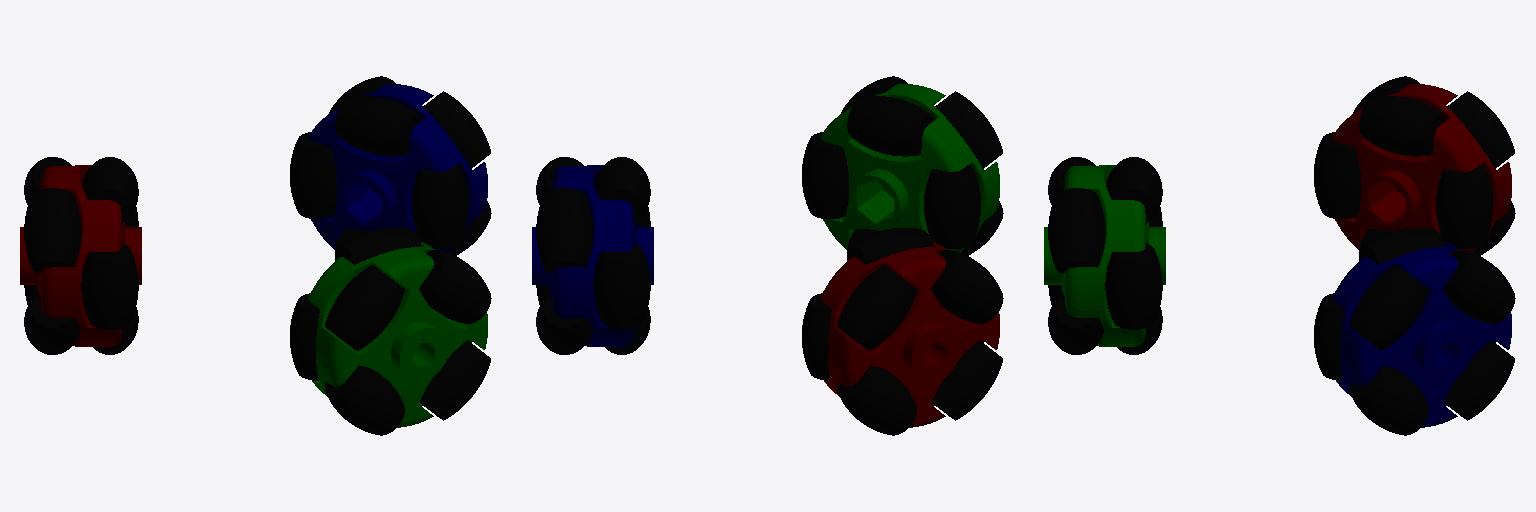
--- What the picture shows (computed from the rendered views, not written in the file) ---
Views: 3 orthographic renders of the robot side by side, from view 1: azimuth 30°, elevation 25°; view 2: azimuth 150°, elevation 25°; view 3: azimuth 270°, elevation 25°.
Model open_base with 29 links and 28 joints (27 continuous, 1 fixed), rooted at origin_link, posed every joint at zero.
Visible links, largest first — view 1: back_rim_link, right_rim_link, left_rim_link, back_roller_ne_link, left_roller_nw_link, left_roller_w_link, right_roller_e_link, right_roller_n_link, back_roller_se_link, back_roller_nw_link, right_roller_w_link, back_roller_sw_link (+9 smaller); view 2: left_rim_link, back_rim_link, right_rim_link, left_roller_ne_link, right_roller_nw_link, right_roller_w_link, back_roller_e_link, back_roller_n_link, left_roller_se_link, left_roller_nw_link, back_roller_w_link, left_roller_sw_link (+9 smaller); view 3: right_rim_link, left_rim_link, back_rim_link, right_roller_ne_link, back_roller_nw_link, back_roller_w_link, left_roller_e_link, left_roller_n_link, right_roller_se_link, right_roller_nw_link, left_roller_w_link, right_roller_sw_link (+9 smaller).
Link boxes in pixels (x1,y1,x2,y2): back_rim_link: (308,242,487,427); right_rim_link: (308,84,487,252); left_rim_link: (20,165,141,346); back_roller_ne_link: (325,265,404,350); left_roller_nw_link: (24,188,80,273); left_roller_w_link: (81,243,138,329); right_roller_e_link: (412,165,468,248); right_roller_n_link: (335,96,422,156); back_roller_se_link: (325,365,404,435); back_roller_nw_link: (419,250,491,323); right_roller_w_link: (290,132,336,218); back_roller_sw_link: (419,340,490,420); left_rim_link: (820,242,999,427); back_rim_link: (820,84,999,252); right_rim_link: (532,165,653,346); left_roller_ne_link: (837,265,916,350); right_roller_nw_link: (536,188,592,273); right_roller_w_link: (593,243,650,329); back_roller_e_link: (924,165,980,248); back_roller_n_link: (847,96,934,156); left_roller_se_link: (837,365,916,435); left_roller_nw_link: (931,250,1003,323); back_roller_w_link: (802,132,848,218); left_roller_sw_link: (931,340,1002,420); right_rim_link: (1332,242,1511,427); left_rim_link: (1332,84,1511,252); back_rim_link: (1044,165,1165,346); right_roller_ne_link: (1349,265,1428,350); back_roller_nw_link: (1048,188,1104,273); back_roller_w_link: (1105,243,1162,329); left_roller_e_link: (1436,165,1492,248); left_roller_n_link: (1359,96,1446,156); right_roller_se_link: (1349,365,1428,435); right_roller_nw_link: (1443,250,1515,323); left_roller_w_link: (1314,132,1360,218); right_roller_sw_link: (1443,340,1514,420).
Bounding box of the posed robot: 0.1011 × 0.0905 × 0.0381 m (x, y, z).
27 mesh visuals loaded from 3 distinct referenced files (2 binary STL); not drawn: 1 (reference not matched to a file when rendering).

The robot description file, URDF, robot "open_base":
<robot name="open_base">

	<link name="origin_link"/>
	<link name="base_link">

		<inertial>

			<mass value="0.07862944645"/>
			<inertia
				ixx="0.00002035985530754"
				ixy="0"
				ixz="0"
				iyy="0.00002035985530754"
				iyz="0"
				izz="0.00003945961663220"
			/>

		</inertial>
		<visual>

			<geometry>

				<mesh filename="package://open_base/mesh/base.stl"/>

			</geometry>
			<material name="base_material">

				<color rgba="1 1 1 1"/>

			</material>

		</visual>
		<collision>

			<geometry>

				<mesh filename="package://open_base/mesh/base.stl"/>

			</geometry>

		</collision>

	</link>
	<joint
		name="origin_joint"
		type="fixed"
	>

		<parent link="origin_link"/>
		<child link="base_link"/>
		<axis xyz="0 0 1"/>
		<origin xyz="0 0 0.01905"/>

	</joint>
	<link name="left_rim_link">

		<inertial>

			<origin xyz="0 0 -0.000343"/>
			<mass value="0.00835758"/>
			<inertia
				ixx="6.63684e-07"
				ixy="0"
				ixz="0"
				iyy="6.63684e-07"
				iyz="0"
				izz="9.40333e-07"
			/>

		</inertial>
		<visual>

			<geometry>

				<mesh filename="package://open_base/mesh/rim.stl"/>

			</geometry>
			<material name="left_rim_material">

				<color rgba="0.3 0 0 1"/>

			</material>

		</visual>
		<collision>

			<geometry>

				<mesh filename="package://open_base/mesh/rim.stl"/>

			</geometry>

		</collision>

	</link>
	<joint
		name="left_rim_joint"
		type="continuous"
	>

		<parent link="base_link"/>
		<child link="left_rim_link"/>
		<axis xyz="0 0 1"/>
		<origin
			xyz="-0.03464101615 0.02 0"
			rpy="1.570796326794896 0 1.047197551196597"
		/>

	</joint>
	<link name="left_roller_e_link">

		<inertial>

			<mass value="0.00113845"/>
			<inertia
				ixx="2.53776e-08"
				ixy="0"
				ixz="0"
				iyy="2.53776e-08"
				iyz="0"
				izz="1.47666e-08"
			/>

		</inertial>
		<visual>

			<geometry>

				<mesh filename="package://open_base/mesh/roller.stl"/>

			</geometry>
			<material name="left_roller_e_material">

				<color rgba="0.03 0.03 0.03 1"/>

			</material>

		</visual>
		<collision>

			<geometry>

				<mesh filename="package://open_base/mesh/roller.stl"/>

			</geometry>

		</collision>

	</link>
	<joint
		name="left_roller_e_joint"
		type="continuous"
	>

		<parent link="left_rim_link"/>
		<child link="left_roller_e_link"/>
		<axis xyz="0 0 1"/>
		<origin
			xyz="0.01355 0 0.0055"
			rpy="-1.570796326794896 0 0"
		/>

	</joint>
	<link name="left_roller_ne_link">

		<inertial>

			<mass value="0.00113845"/>
			<inertia
				ixx="2.53776e-08"
				ixy="0"
				ixz="0"
				iyy="2.53776e-08"
				iyz="0"
				izz="1.47666e-08"
			/>

		</inertial>
		<visual>

			<geometry>

				<mesh filename="package://open_base/mesh/roller.stl"/>

			</geometry>
			<material name="left_roller_e_material">

				<color rgba="0.03 0.03 0.03 1"/>

			</material>

		</visual>
		<collision>

			<geometry>

				<mesh filename="package://open_base/mesh/roller.stl"/>

			</geometry>

		</collision>

	</link>
	<joint
		name="left_roller_ne_joint"
		type="continuous"
	>

		<parent link="left_rim_link"/>
		<child link="left_roller_ne_link"/>
		<axis xyz="0 0 1"/>
		<origin
			xyz="0.00958129689 0.00958129689 -0.0055"
			rpy="-1.570796326794896 0 0.7853981633974483"
		/>

	</joint>
	<link name="left_roller_n_link">

		<inertial>

			<mass value="0.00113845"/>
			<inertia
				ixx="2.53776e-08"
				ixy="0"
				ixz="0"
				iyy="2.53776e-08"
				iyz="0"
				izz="1.47666e-08"
			/>

		</inertial>
		<visual>

			<geometry>

				<mesh filename="package://open_base/mesh/roller.stl"/>

			</geometry>
			<material name="left_roller_n_material">

				<color rgba="0.03 0.03 0.03 1"/>

			</material>

		</visual>
		<collision>

			<geometry>

				<mesh filename="package://open_base/mesh/roller.stl"/>

			</geometry>

		</collision>

	</link>
	<joint
		name="left_roller_n_joint"
		type="continuous"
	>

		<parent link="left_rim_link"/>
		<child link="left_roller_n_link"/>
		<axis xyz="0 0 1"/>
		<origin
			xyz="0 0.01355 0.0055"
			rpy="-1.570796326794896 0 1.570796326794896"
		/>

	</joint>
	<link name="left_roller_nw_link">

		<inertial>

			<mass value="0.00113845"/>
			<inertia
				ixx="2.53776e-08"
				ixy="0"
				ixz="0"
				iyy="2.53776e-08"
				iyz="0"
				izz="1.47666e-08"
			/>

		</inertial>
		<visual>

			<geometry>

				<mesh filename="package://open_base/mesh/roller.stl"/>

			</geometry>
			<material name="left_roller_nw_material">

				<color rgba="0.03 0.03 0.03 1"/>

			</material>

		</visual>
		<collision>

			<geometry>

				<mesh filename="package://open_base/mesh/roller.stl"/>

			</geometry>

		</collision>

	</link>
	<joint
		name="left_roller_nw_joint"
		type="continuous"
	>

		<parent link="left_rim_link"/>
		<child link="left_roller_nw_link"/>
		<axis xyz="0 0 1"/>
		<origin
			xyz="-0.00958129689 0.00958129689 -0.0055"
			rpy="-1.570796326794896 0 2.356194490192345"
		/>

	</joint>
	<link name="left_roller_w_link">

		<inertial>

			<mass value="0.00113845"/>
			<inertia
				ixx="2.53776e-08"
				ixy="0"
				ixz="0"
				iyy="2.53776e-08"
				iyz="0"
				izz="1.47666e-08"
			/>

		</inertial>
		<visual>

			<geometry>

				<mesh filename="package://open_base/mesh/roller.stl"/>

			</geometry>
			<material name="left_roller_w_material">

				<color rgba="0.03 0.03 0.03 1"/>

			</material>

		</visual>
		<collision>

			<geometry>

				<mesh filename="package://open_base/mesh/roller.stl"/>

			</geometry>

		</collision>

	</link>
	<joint
		name="left_roller_w_joint"
		type="continuous"
	>

		<parent link="left_rim_link"/>
		<child link="left_roller_w_link"/>
		<axis xyz="0 0 1"/>
		<origin
			xyz="-0.01355 0 0.0055"
			rpy="-1.570796326794896 0 3.141592653589793"
		/>

	</joint>
	<link name="left_roller_sw_link">

		<inertial>

			<mass value="0.00113845"/>
			<inertia
				ixx="2.53776e-08"
				ixy="0"
				ixz="0"
				iyy="2.53776e-08"
				iyz="0"
				izz="1.47666e-08"
			/>

		</inertial>
		<visual>

			<geometry>

				<mesh filename="package://open_base/mesh/roller.stl"/>

			</geometry>
			<material name="left_roller_sw_material">

				<color rgba="0.03 0.03 0.03 1"/>

			</material>

		</visual>
		<collision>

			<geometry>

				<mesh filename="package://open_base/mesh/roller.stl"/>

			</geometry>

		</collision>

	</link>
	<joint
		name="left_roller_sw_joint"
		type="continuous"
	>

		<parent link="left_rim_link"/>
		<child link="left_roller_sw_link"/>
		<axis xyz="0 0 1"/>
		<origin
			xyz="-0.00958129689 -0.00958129689 -0.0055"
			rpy="-1.570796326794896 0 -2.356194490192345"
		/>

	</joint>
	<link name="left_roller_s_link">

		<inertial>

			<mass value="0.00113845"/>
			<inertia
				ixx="2.53776e-08"
				ixy="0"
				ixz="0"
				iyy="2.53776e-08"
				iyz="0"
				izz="1.47666e-08"
			/>

		</inertial>
		<visual>

			<geometry>

				<mesh filename="package://open_base/mesh/roller.stl"/>

			</geometry>
			<material name="left_roller_s_material">

				<color rgba="0.03 0.03 0.03 1"/>

			</material>

		</visual>
		<collision>

			<geometry>

				<mesh filename="package://open_base/mesh/roller.stl"/>

			</geometry>

		</collision>

	</link>
	<joint
		name="left_roller_s_joint"
		type="continuous"
	>

		<parent link="left_rim_link"/>
		<child link="left_roller_s_link"/>
		<axis xyz="0 0 1"/>
		<origin
			xyz="0 -0.01355 0.0055"
			rpy="-1.570796326794896 0 -1.570796326794896"
		/>

	</joint>
	<link name="left_roller_se_link">

		<inertial>

			<mass value="0.00113845"/>
			<inertia
				ixx="2.53776e-08"
				ixy="0"
				ixz="0"
				iyy="2.53776e-08"
				iyz="0"
				izz="1.47666e-08"
			/>

		</inertial>
		<visual>

			<geometry>

				<mesh filename="package://open_base/mesh/roller.stl"/>

			</geometry>
			<material name="left_roller_se_material">

				<color rgba="0.03 0.03 0.03 1"/>

			</material>

		</visual>
		<collision>

			<geometry>

				<mesh filename="package://open_base/mesh/roller.stl"/>

			</geometry>

		</collision>

	</link>
	<joint
		name="left_roller_se_joint"
		type="continuous"
	>

		<parent link="left_rim_link"/>
		<child link="left_roller_se_link"/>
		<axis xyz="0 0 1"/>
		<origin
			xyz="0.00958129689 -0.00958129689 -0.0055"
			rpy="-1.570796326794896 0 -0.7853981633974483"
		/>

	</joint>
	<link name="back_rim_link">

		<inertial>

			<origin xyz="0 0 -0.000343"/>
			<mass value="0.00835758"/>
			<inertia
				ixx="6.63684e-07"
				ixy="0"
				ixz="0"
				iyy="6.63684e-07"
				iyz="0"
				izz="9.40333e-07"
			/>

		</inertial>
		<visual>

			<geometry>

				<mesh filename="package://open_base/mesh/rim.stl"/>

			</geometry>
			<material name="back_rim_material">

				<color rgba="0 0.3 0 1"/>

			</material>

		</visual>
		<collision>

			<geometry>

				<mesh filename="package://open_base/mesh/rim.stl"/>

			</geometry>

		</collision>

	</link>
	<joint
		name="back_rim_joint"
		type="continuous"
	>

		<parent link="base_link"/>
		<child link="back_rim_link"/>
		<axis xyz="0 0 1"/>
		<origin
			xyz="0 -0.04 0"
			rpy="1.570796326794896 0 3.141592653589793"
		/>

	</joint>
	<link name="back_roller_e_link">

		<inertial>

			<mass value="0.00113845"/>
			<inertia
				ixx="2.53776e-08"
				ixy="0"
				ixz="0"
				iyy="2.53776e-08"
				iyz="0"
				izz="1.47666e-08"
			/>

		</inertial>
		<visual>

			<geometry>

				<mesh filename="package://open_base/mesh/roller.stl"/>

			</geometry>
			<material name="back_roller_e_material">

				<color rgba="0.03 0.03 0.03 1"/>

			</material>

		</visual>
		<collision>

			<geometry>

				<mesh filename="package://open_base/mesh/roller.stl"/>

			</geometry>

		</collision>

	</link>
	<joint
		name="back_roller_e_joint"
		type="continuous"
	>

		<parent link="back_rim_link"/>
		<child link="back_roller_e_link"/>
		<axis xyz="0 0 1"/>
		<origin
			xyz="0.01355 0 0.0055"
			rpy="-1.570796326794896 0 0"
		/>

	</joint>
	<link name="back_roller_ne_link">

		<inertial>

			<mass value="0.00113845"/>
			<inertia
				ixx="2.53776e-08"
				ixy="0"
				ixz="0"
				iyy="2.53776e-08"
				iyz="0"
				izz="1.47666e-08"
			/>

		</inertial>
		<visual>

			<geometry>

				<mesh filename="package://open_base/mesh/roller.stl"/>

			</geometry>
			<material name="back_roller_e_material">

				<color rgba="0.03 0.03 0.03 1"/>

			</material>

		</visual>
		<collision>

			<geometry>

				<mesh filename="package://open_base/mesh/roller.stl"/>

			</geometry>

		</collision>

	</link>
	<joint
		name="back_roller_ne_joint"
		type="continuous"
	>

		<parent link="back_rim_link"/>
		<child link="back_roller_ne_link"/>
		<axis xyz="0 0 1"/>
		<origin
			xyz="0.00958129689 0.00958129689 -0.0055"
			rpy="-1.570796326794896 0 0.7853981633974483"
		/>

	</joint>
	<link name="back_roller_n_link">

		<inertial>

			<mass value="0.00113845"/>
			<inertia
				ixx="2.53776e-08"
				ixy="0"
				ixz="0"
				iyy="2.53776e-08"
				iyz="0"
				izz="1.47666e-08"
			/>

		</inertial>
		<visual>

			<geometry>

				<mesh filename="package://open_base/mesh/roller.stl"/>

			</geometry>
			<material name="back_roller_n_material">

				<color rgba="0.03 0.03 0.03 1"/>

			</material>

		</visual>
		<collision>

			<geometry>

				<mesh filename="package://open_base/mesh/roller.stl"/>

			</geometry>

		</collision>

	</link>
	<joint
		name="back_roller_n_joint"
		type="continuous"
	>

		<parent link="back_rim_link"/>
		<child link="back_roller_n_link"/>
		<axis xyz="0 0 1"/>
		<origin
			xyz="0 0.01355 0.0055"
			rpy="-1.570796326794896 0 1.570796326794896"
		/>

	</joint>
	<link name="back_roller_nw_link">

		<inertial>

			<mass value="0.00113845"/>
			<inertia
				ixx="2.53776e-08"
				ixy="0"
				ixz="0"
				iyy="2.53776e-08"
				iyz="0"
				izz="1.47666e-08"
			/>

		</inertial>
		<visual>

			<geometry>

				<mesh filename="package://open_base/mesh/roller.stl"/>

			</geometry>
			<material name="back_roller_nw_material">

				<color rgba="0.03 0.03 0.03 1"/>

			</material>

		</visual>
		<collision>

			<geometry>

				<mesh filename="package://open_base/mesh/roller.stl"/>

			</geometry>

		</collision>

	</link>
	<joint
		name="back_roller_nw_joint"
		type="continuous"
	>

		<parent link="back_rim_link"/>
		<child link="back_roller_nw_link"/>
		<axis xyz="0 0 1"/>
		<origin
			xyz="-0.00958129689 0.00958129689 -0.0055"
			rpy="-1.570796326794896 0 2.356194490192345"
		/>

	</joint>
	<link name="back_roller_w_link">

		<inertial>

			<mass value="0.00113845"/>
			<inertia
				ixx="2.53776e-08"
				ixy="0"
				ixz="0"
				iyy="2.53776e-08"
				iyz="0"
				izz="1.47666e-08"
			/>

		</inertial>
		<visual>

			<geometry>

				<mesh filename="package://open_base/mesh/roller.stl"/>

			</geometry>
			<material name="back_roller_w_material">

				<color rgba="0.03 0.03 0.03 1"/>

			</material>

		</visual>
		<collision>

			<geometry>

				<mesh filename="package://open_base/mesh/roller.stl"/>

			</geometry>

		</collision>

	</link>
	<joint
		name="back_roller_w_joint"
		type="continuous"
	>

		<parent link="back_rim_link"/>
		<child link="back_roller_w_link"/>
		<axis xyz="0 0 1"/>
		<origin
			xyz="-0.01355 0 0.0055"
			rpy="-1.570796326794896 0 3.141592653589793"
		/>

	</joint>
	<link name="back_roller_sw_link">

		<inertial>

			<mass value="0.00113845"/>
			<inertia
				ixx="2.53776e-08"
				ixy="0"
				ixz="0"
				iyy="2.53776e-08"
				iyz="0"
				izz="1.47666e-08"
			/>

		</inertial>
		<visual>

			<geometry>

				<mesh filename="package://open_base/mesh/roller.stl"/>

			</geometry>
			<material name="back_roller_sw_material">

				<color rgba="0.03 0.03 0.03 1"/>

			</material>

		</visual>
		<collision>

			<geometry>

				<mesh filename="package://open_base/mesh/roller.stl"/>

			</geometry>

		</collision>

	</link>
	<joint
		name="back_roller_sw_joint"
		type="continuous"
	>

		<parent link="back_rim_link"/>
		<child link="back_roller_sw_link"/>
		<axis xyz="0 0 1"/>
		<origin
			xyz="-0.00958129689 -0.00958129689 -0.0055"
			rpy="-1.570796326794896 0 -2.356194490192345"
		/>

	</joint>
	<link name="back_roller_s_link">

		<inertial>

			<mass value="0.00113845"/>
			<inertia
				ixx="2.53776e-08"
				ixy="0"
				ixz="0"
				iyy="2.53776e-08"
				iyz="0"
				izz="1.47666e-08"
			/>

		</inertial>
		<visual>

			<geometry>

				<mesh filename="package://open_base/mesh/roller.stl"/>

			</geometry>
			<material name="back_roller_s_material">

				<color rgba="0.03 0.03 0.03 1"/>

			</material>

		</visual>
		<collision>

			<geometry>

				<mesh filename="package://open_base/mesh/roller.stl"/>

			</geometry>

		</collision>

	</link>
	<joint
		name="back_roller_s_joint"
		type="continuous"
	>

		<parent link="back_rim_link"/>
		<child link="back_roller_s_link"/>
		<axis xyz="0 0 1"/>
		<origin
			xyz="0 -0.01355 0.0055"
			rpy="-1.570796326794896 0 -1.570796326794896"
		/>

	</joint>
	<link name="back_roller_se_link">

		<inertial>

			<mass value="0.00113845"/>
			<inertia
				ixx="2.53776e-08"
				ixy="0"
				ixz="0"
				iyy="2.53776e-08"
				iyz="0"
				izz="1.47666e-08"
			/>

		</inertial>
		<visual>

			<geometry>

				<mesh filename="package://open_base/mesh/roller.stl"/>

			</geometry>
			<material name="back_roller_se_material">

				<color rgba="0.03 0.03 0.03 1"/>

			</material>

		</visual>
		<collision>

			<geometry>

				<mesh filename="package://open_base/mesh/roller.stl"/>

			</geometry>

		</collision>

	</link>
	<joint
		name="back_roller_se_joint"
		type="continuous"
	>

		<parent link="back_rim_link"/>
		<child link="back_roller_se_link"/>
		<axis xyz="0 0 1"/>
		<origin
			xyz="0.00958129689 -0.00958129689 -0.0055"
			rpy="-1.570796326794896 0 -0.7853981633974483"
		/>

	</joint>
	<link name="right_rim_link">

		<inertial>

			<origin xyz="0 0 -0.000343"/>
			<mass value="0.00835758"/>
			<inertia
				ixx="6.63684e-07"
				ixy="0"
				ixz="0"
				iyy="6.63684e-07"
				iyz="0"
				izz="9.40333e-07"
			/>

		</inertial>
		<visual>

			<geometry>

				<mesh filename="package://open_base/mesh/rim.stl"/>

			</geometry>
			<material name="right_rim_material">

				<color rgba="0 0 0.3 1"/>

			</material>

		</visual>
		<collision>

			<geometry>

				<mesh filename="package://open_base/mesh/rim.stl"/>

			</geometry>

		</collision>

	</link>
	<joint
		name="right_rim_joint"
		type="continuous"
	>

		<parent link="base_link"/>
		<child link="right_rim_link"/>
		<axis xyz="0 0 1"/>
		<origin
			xyz="0.03464101615 0.02 0"
			rpy="1.570796326794896 0 -1.047197551196597"
		/>

	</joint>
	<link name="right_roller_e_link">

		<inertial>

			<mass value="0.00113845"/>
			<inertia
				ixx="2.53776e-08"
				ixy="0"
				ixz="0"
				iyy="2.53776e-08"
				iyz="0"
				izz="1.47666e-08"
			/>

		</inertial>
		<visual>

			<geometry>

				<mesh filename="package://open_base/mesh/roller.stl"/>

			</geometry>
			<material name="right_roller_e_material">

				<color rgba="0.03 0.03 0.03 1"/>

			</material>

		</visual>
		<collision>

			<geometry>

				<mesh filename="package://open_base/mesh/roller.stl"/>

			</geometry>

		</collision>

	</link>
	<joint
		name="right_roller_e_joint"
		type="continuous"
	>

		<parent link="right_rim_link"/>
		<child link="right_roller_e_link"/>
		<axis xyz="0 0 1"/>
		<origin
			xyz="0.01355 0 0.0055"
			rpy="-1.570796326794896 0 0"
		/>

	</joint>
	<link name="right_roller_ne_link">

		<inertial>

			<mass value="0.00113845"/>
			<inertia
				ixx="2.53776e-08"
				ixy="0"
				ixz="0"
				iyy="2.53776e-08"
				iyz="0"
				izz="1.47666e-08"
			/>

		</inertial>
		<visual>

			<geometry>

				<mesh filename="package://open_base/mesh/roller.stl"/>

			</geometry>
			<material name="right_roller_e_material">

				<color rgba="0.03 0.03 0.03 1"/>

			</material>

		</visual>
		<collision>

			<geometry>

				<mesh filename="package://open_base/mesh/roller.stl"/>

			</geometry>

		</collision>

	</link>
	<joint
		name="right_roller_ne_joint"
		type="continuous"
	>

		<parent link="right_rim_link"/>
		<child link="right_roller_ne_link"/>
		<axis xyz="0 0 1"/>
		<origin
			xyz="0.00958129689 0.00958129689 -0.0055"
			rpy="-1.570796326794896 0 0.7853981633974483"
		/>

	</joint>
	<link name="right_roller_n_link">

		<inertial>

			<mass value="0.00113845"/>
			<inertia
				ixx="2.53776e-08"
				ixy="0"
				ixz="0"
				iyy="2.53776e-08"
				iyz="0"
				izz="1.47666e-08"
			/>

		</inertial>
		<visual>

			<geometry>

				<mesh filename="package://open_base/mesh/roller.stl"/>

			</geometry>
			<material name="right_roller_n_material">

				<color rgba="0.03 0.03 0.03 1"/>

			</material>

		</visual>
		<collision>

			<geometry>

				<mesh filename="package://open_base/mesh/roller.stl"/>

			</geometry>

		</collision>

	</link>
	<joint
		name="right_roller_n_joint"
		type="continuous"
	>

		<parent link="right_rim_link"/>
		<child link="right_roller_n_link"/>
		<axis xyz="0 0 1"/>
		<origin
			xyz="0 0.01355 0.0055"
			rpy="-1.570796326794896 0 1.570796326794896"
		/>

	</joint>
	<link name="right_roller_nw_link">

		<inertial>

			<mass value="0.00113845"/>
			<inertia
				ixx="2.53776e-08"
				ixy="0"
				ixz="0"
				iyy="2.53776e-08"
				iyz="0"
				izz="1.47666e-08"
			/>

		</inertial>
		<visual>

			<geometry>

				<mesh filename="package://open_base/mesh/roller.stl"/>

			</geometry>
			<material name="right_roller_nw_material">

				<color rgba="0.03 0.03 0.03 1"/>

			</material>

		</visual>
		<collision>

			<geometry>

				<mesh filename="package://open_base/mesh/roller.stl"/>

			</geometry>

		</collision>

	</link>
	<joint
		name="right_roller_nw_joint"
		type="continuous"
	>

		<parent link="right_rim_link"/>
		<child link="right_roller_nw_link"/>
		<axis xyz="0 0 1"/>
		<origin
			xyz="-0.00958129689 0.00958129689 -0.0055"
			rpy="-1.570796326794896 0 2.356194490192345"
		/>

	</joint>
	<link name="right_roller_w_link">

		<inertial>

			<mass value="0.00113845"/>
			<inertia
				ixx="2.53776e-08"
				ixy="0"
				ixz="0"
				iyy="2.53776e-08"
				iyz="0"
				izz="1.47666e-08"
			/>

		</inertial>
		<visual>

			<geometry>

				<mesh filename="package://open_base/mesh/roller.stl"/>

			</geometry>
			<material name="right_roller_w_material">

				<color rgba="0.03 0.03 0.03 1"/>

			</material>

		</visual>
		<collision>

			<geometry>

				<mesh filename="package://open_base/mesh/roller.stl"/>

			</geometry>

		</collision>

	</link>
	<joint
		name="right_roller_w_joint"
		type="continuous"
	>

		<parent link="right_rim_link"/>
		<child link="right_roller_w_link"/>
		<axis xyz="0 0 1"/>
		<origin
			xyz="-0.01355 0 0.0055"
			rpy="-1.570796326794896 0 3.141592653589793"
		/>

	</joint>
	<link name="right_roller_sw_link">

		<inertial>

			<mass value="0.00113845"/>
			<inertia
				ixx="2.53776e-08"
				ixy="0"
				ixz="0"
				iyy="2.53776e-08"
				iyz="0"
				izz="1.47666e-08"
			/>

		</inertial>
		<visual>

			<geometry>

				<mesh filename="package://open_base/mesh/roller.stl"/>

			</geometry>
			<material name="right_roller_sw_material">

				<color rgba="0.03 0.03 0.03 1"/>

			</material>

		</visual>
		<collision>

			<geometry>

				<mesh filename="package://open_base/mesh/roller.stl"/>

			</geometry>

		</collision>

	</link>
	<joint
		name="right_roller_sw_joint"
		type="continuous"
	>

		<parent link="right_rim_link"/>
		<child link="right_roller_sw_link"/>
		<axis xyz="0 0 1"/>
		<origin
			xyz="-0.00958129689 -0.00958129689 -0.0055"
			rpy="-1.570796326794896 0 -2.356194490192345"
		/>

	</joint>
	<link name="right_roller_s_link">

		<inertial>

			<mass value="0.00113845"/>
			<inertia
				ixx="2.53776e-08"
				ixy="0"
				ixz="0"
				iyy="2.53776e-08"
				iyz="0"
				izz="1.47666e-08"
			/>

		</inertial>
		<visual>

			<geometry>

				<mesh filename="package://open_base/mesh/roller.stl"/>

			</geometry>
			<material name="right_roller_s_material">

				<color rgba="0.03 0.03 0.03 1"/>

			</material>

		</visual>
		<collision>

			<geometry>

				<mesh filename="package://open_base/mesh/roller.stl"/>

			</geometry>

		</collision>

	</link>
	<joint
		name="right_roller_s_joint"
		type="continuous"
	>

		<parent link="right_rim_link"/>
		<child link="right_roller_s_link"/>
		<axis xyz="0 0 1"/>
		<origin
			xyz="0 -0.01355 0.0055"
			rpy="-1.570796326794896 0 -1.570796326794896"
		/>

	</joint>
	<link name="right_roller_se_link">

		<inertial>

			<mass value="0.00113845"/>
			<inertia
				ixx="2.53776e-08"
				ixy="0"
				ixz="0"
				iyy="2.53776e-08"
				iyz="0"
				izz="1.47666e-08"
			/>

		</inertial>
		<visual>

			<geometry>

				<mesh filename="package://open_base/mesh/roller.stl"/>

			</geometry>
			<material name="right_roller_se_material">

				<color rgba="0.03 0.03 0.03 1"/>

			</material>

		</visual>
		<collision>

			<geometry>

				<mesh filename="package://open_base/mesh/roller.stl"/>

			</geometry>

		</collision>

	</link>
	<joint
		name="right_roller_se_joint"
		type="continuous"
	>

		<parent link="right_rim_link"/>
		<child link="right_roller_se_link"/>
		<axis xyz="0 0 1"/>
		<origin
			xyz="0.00958129689 -0.00958129689 -0.0055"
			rpy="-1.570796326794896 0 -0.7853981633974483"
		/>

	</joint>
	<transmission name="left_transmission">

		<type>transmission_interface/SimpleTransmission</type>
		<joint name="left_rim_joint">

			<hardwareInterface>EffortJointInterface</hardwareInterface>

		</joint>
		<actuator name="left_motor">

			<hardwareInterface>EffortJointInterface</hardwareInterface>
			<mechanicalReduction>1</mechanicalReduction>

		</actuator>

	</transmission>
	<transmission name="back_transmission">

		<type>transmission_interface/SimpleTransmission</type>
		<joint name="back_rim_joint">

			<hardwareInterface>EffortJointInterface</hardwareInterface>

		</joint>
		<actuator name="back_motor">

			<hardwareInterface>EffortJointInterface</hardwareInterface>
			<mechanicalReduction>1</mechanicalReduction>

		</actuator>

	</transmission>
	<transmission name="right_transmission">

		<type>transmission_interface/SimpleTransmission</type>
		<joint name="right_rim_joint">

			<hardwareInterface>EffortJointInterface</hardwareInterface>

		</joint>
		<actuator name="rim_motor">

			<hardwareInterface>EffortJointInterface</hardwareInterface>
			<mechanicalReduction>1</mechanicalReduction>

		</actuator>

	</transmission>
	<gazebo>

		<plugin name="gazebo_ros_control" filename="libgazebo_ros_control.so">

			<robotNamespace>/open_base</robotNamespace>

		</plugin>

	</gazebo>

</robot>
